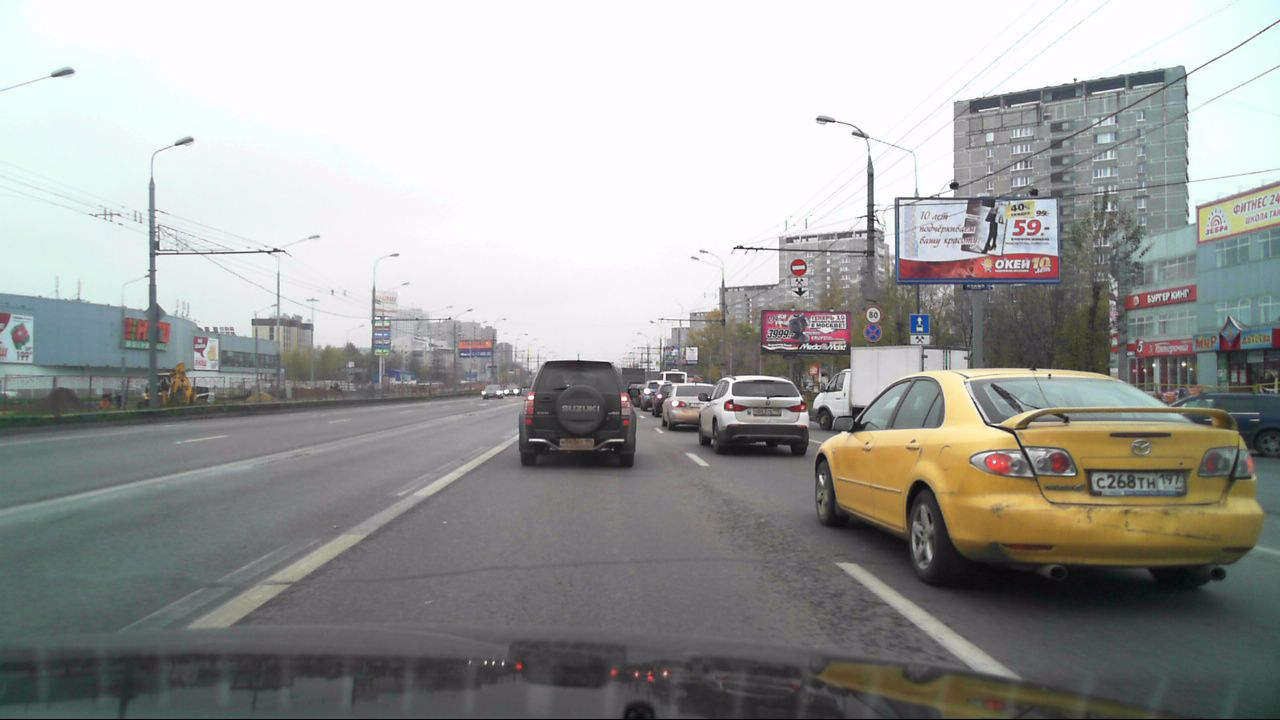No Parking: (863, 323, 881, 343)
